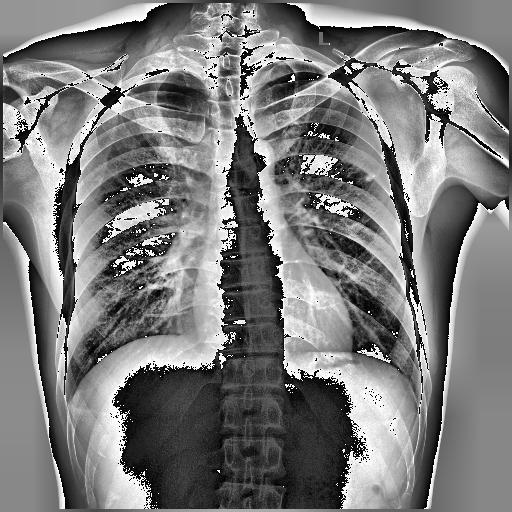2- Calcification: (365, 172, 377, 182), (364, 172, 376, 180), (364, 174, 376, 182)
8- Nodule-Mass: (364, 172, 376, 180), (364, 174, 376, 182)
9- Other lesion: (364, 172, 376, 180)
